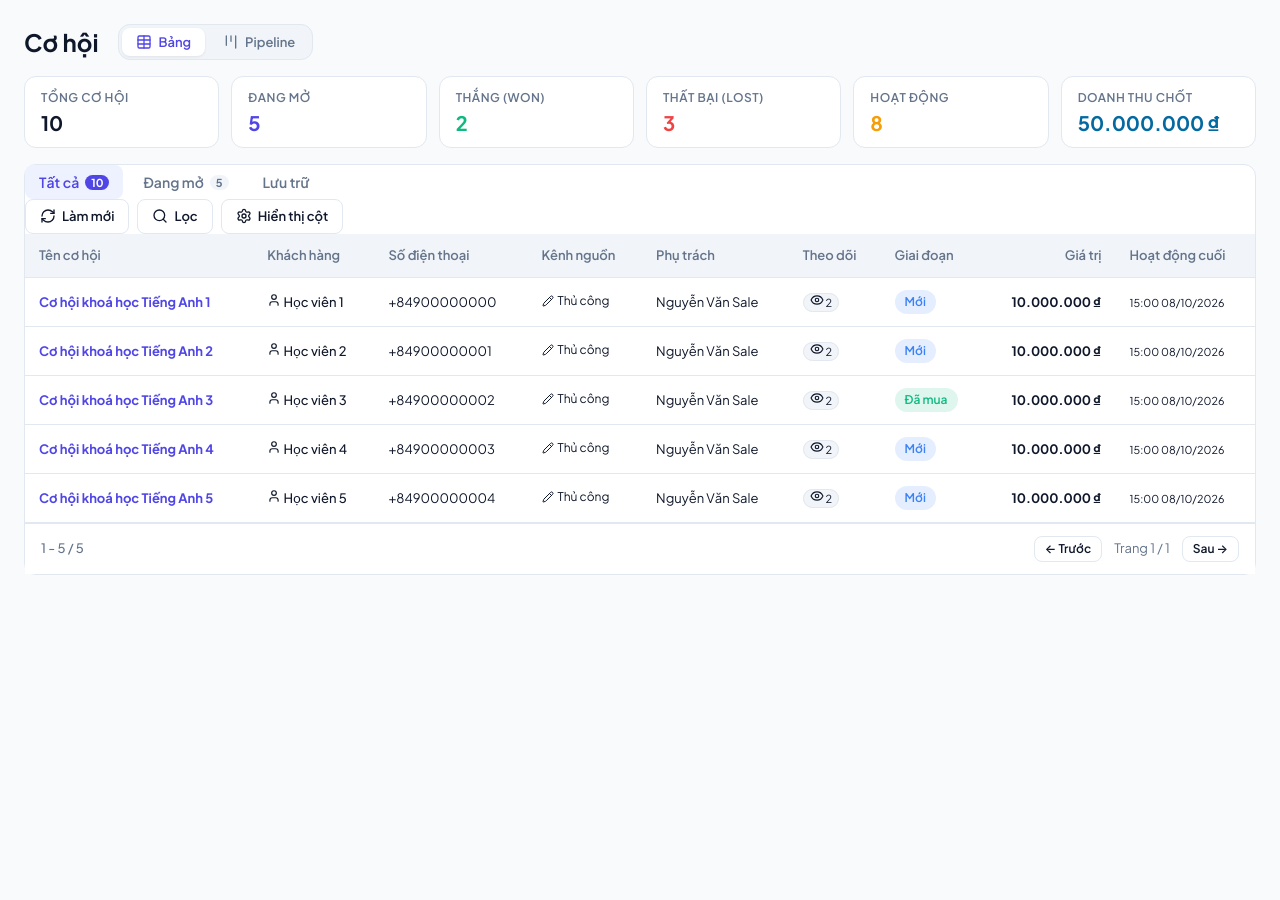
Test: AC fd9216b3 (a)(b)(d) — Opportunities Table & Header & Viewer & Customer Picker › AC fd9216b3 (d) — Viewer Role Permissions › Viewer: không có "+ Cơ hội", không có menu ghi ⋮, drawer không có nút sửa
Check: the table with test id "opportunity-table" is shown, box [25,234,1255,523]
// Click vào row mở Drawer, nhưng Drawer không có nút Sửa
Click the row with test id "opp-row-opp-1" at [640, 302], box [25,278,1255,327]
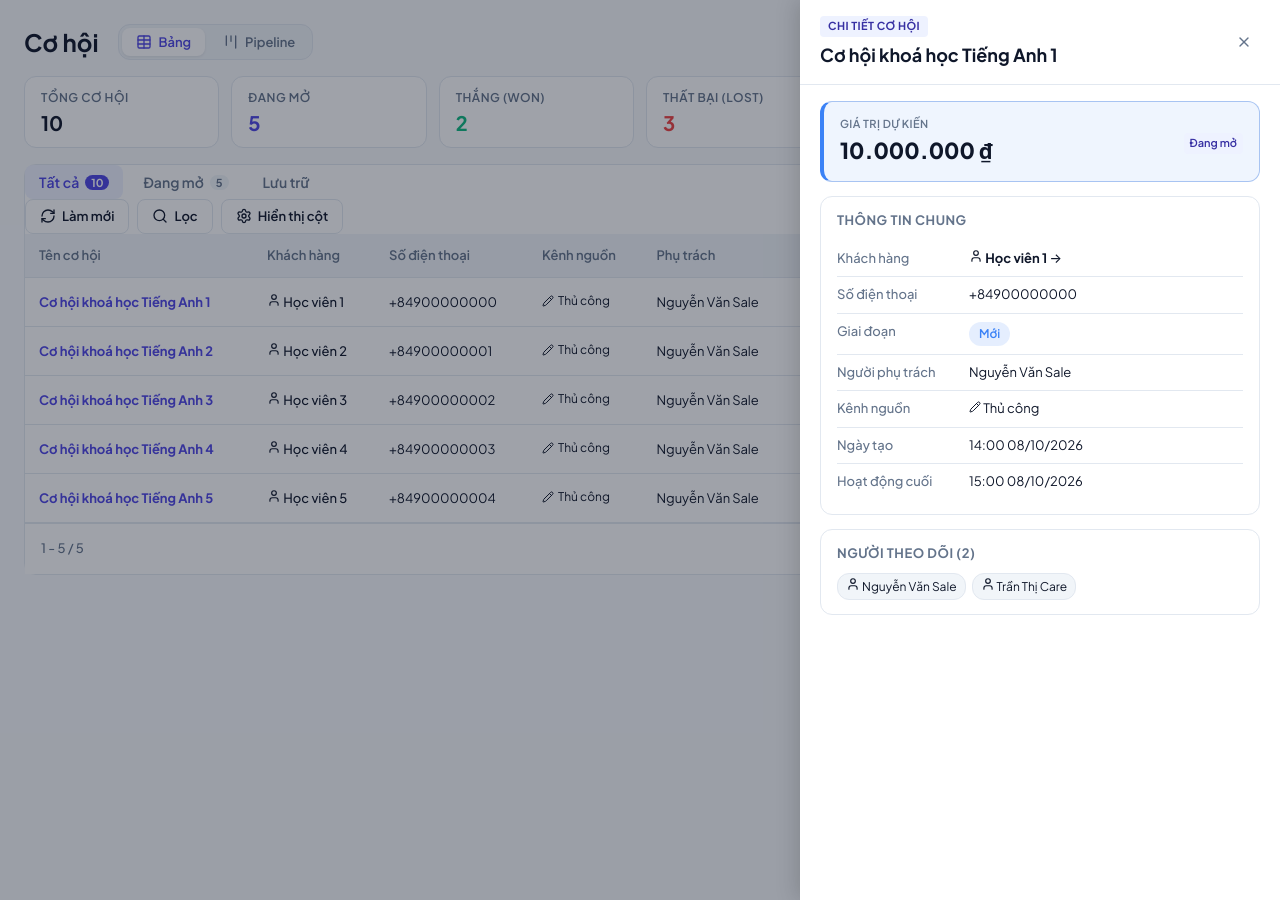
Check: the dialog with test id "opportunity-drawer" is shown, box [800,0,1279,899]
